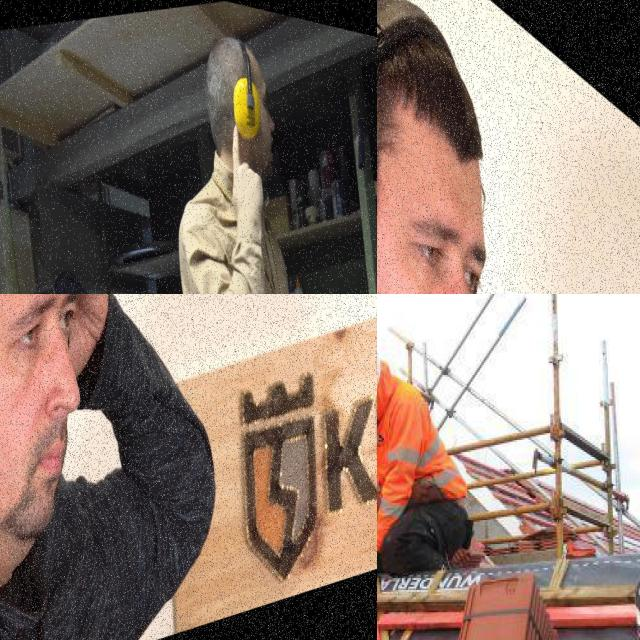Ear-protection: (377, 0, 531, 294), (0, 294, 103, 628), (228, 66, 266, 151)
No_Glasses: (399, 197, 482, 294), (4, 294, 77, 371)
person: (377, 347, 469, 576)
vest: (377, 388, 473, 520)
